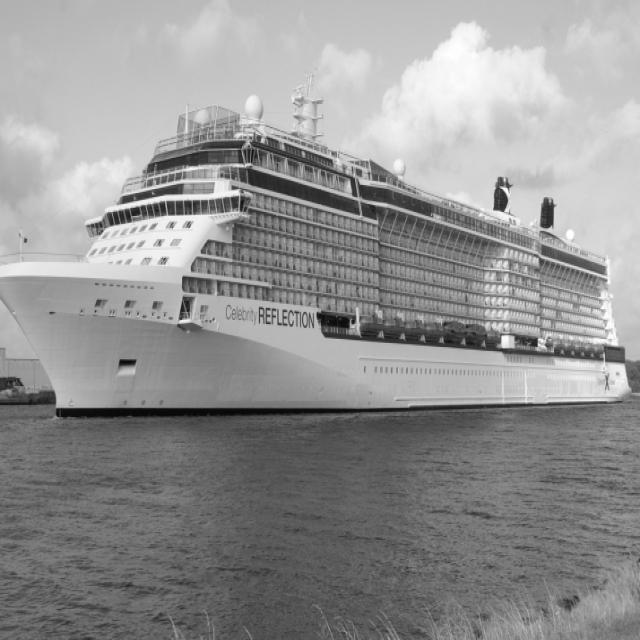cruises: (1, 66, 640, 425)
